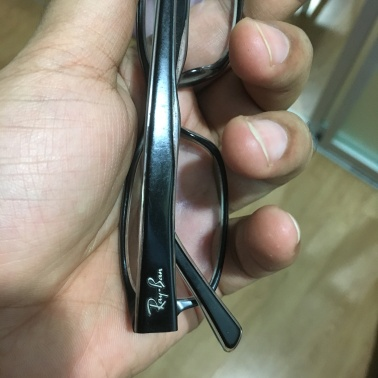glasses: (123, 3, 246, 341)
